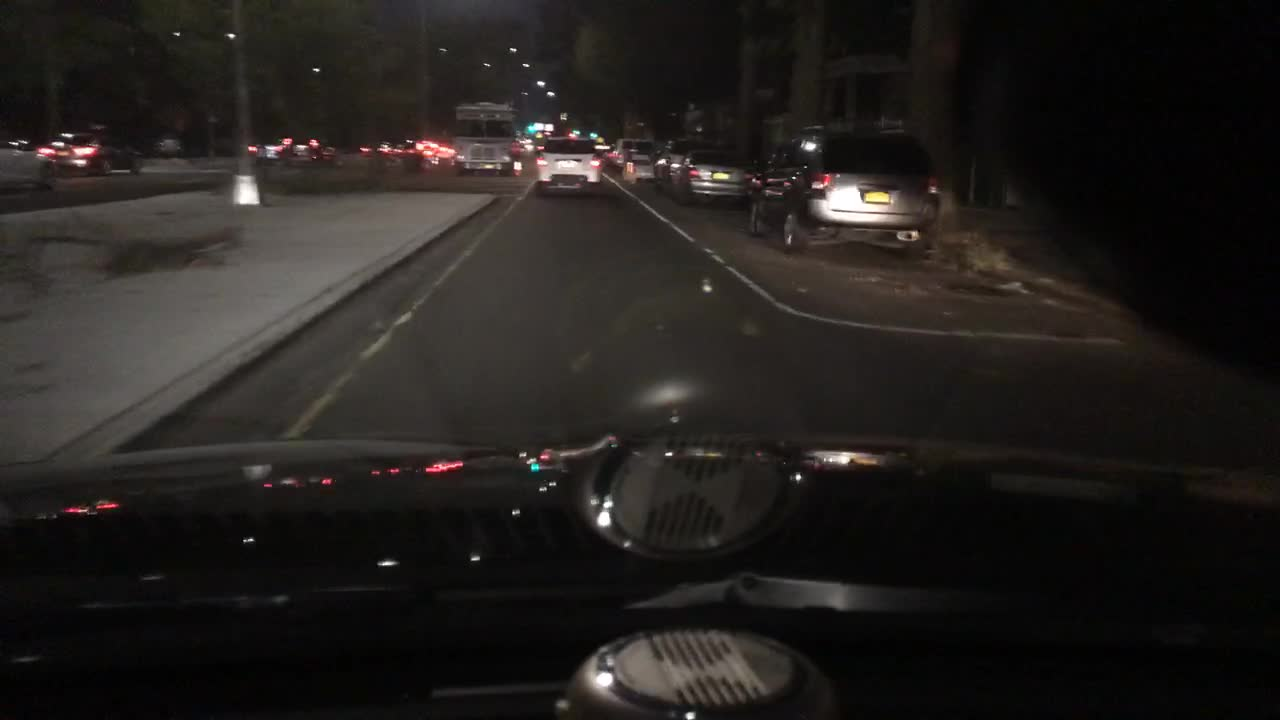car: (744, 123, 945, 257), (34, 126, 148, 178), (533, 135, 607, 201), (678, 144, 751, 204), (0, 132, 57, 195), (356, 134, 441, 174), (653, 137, 711, 192), (277, 135, 341, 169), (609, 138, 645, 172), (622, 152, 661, 183), (255, 137, 282, 161)
truck: (452, 97, 524, 175)
